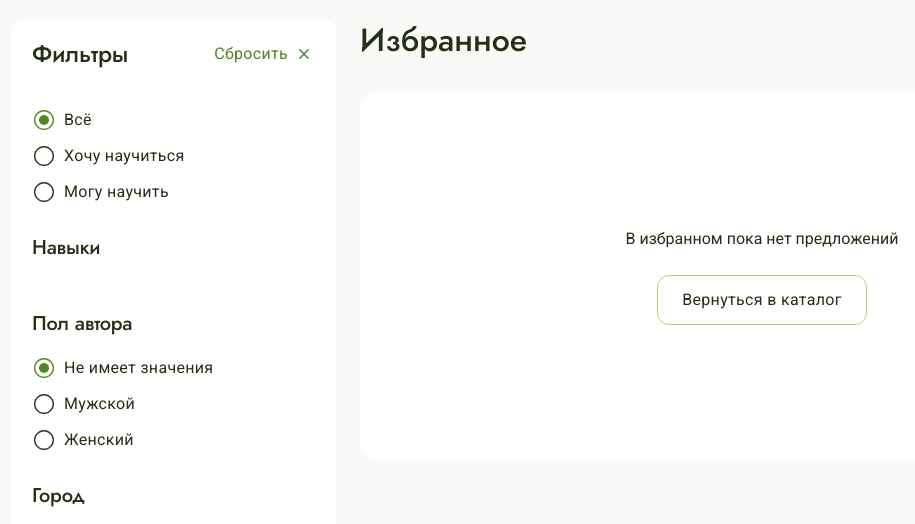
Test: FavoritesPage › показывает пустое состояние и позволяет вернуться в каталог
Expected: the heading "Избранное" is shown, x1=360 y1=17 x2=527 y2=63
Expected: the message shows "В избранном пока нет предложений", x1=626 y1=229 x2=898 y2=248
What coordinates should you click on to do the following:
click the button "Вернуться в каталог"
I would click on:
 (762, 300)
Its box is x1=657 y1=275 x2=867 y2=325.
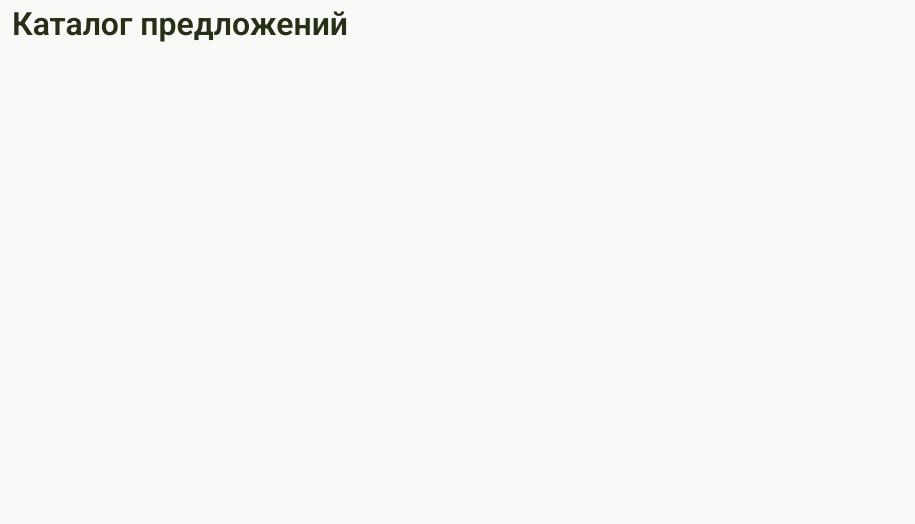
Now the heading "Каталог предложений" is shown, box x1=12 y1=5 x2=348 y2=43
